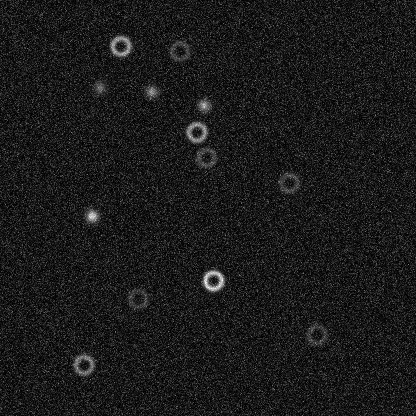Ring: (125, 286, 149, 310), (167, 39, 191, 63), (71, 352, 95, 376), (276, 170, 300, 194), (201, 268, 225, 292), (304, 322, 328, 346), (194, 145, 218, 169), (184, 120, 208, 144), (108, 33, 132, 57)
Spot: (143, 83, 159, 99), (91, 79, 107, 95), (196, 97, 212, 113), (83, 207, 99, 223)
